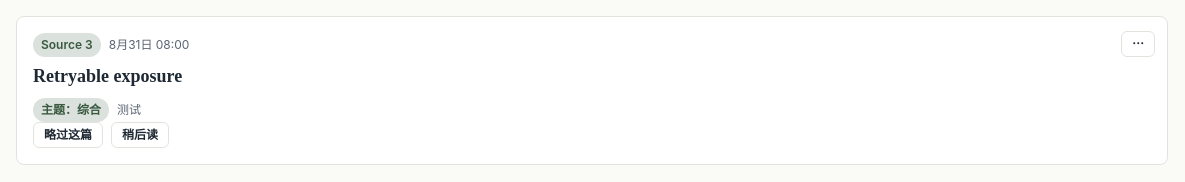
it: explicit exploration feedback targets › does not offer topic hiding for non-content label recently-added
This screenshot has width=1185, height=182.
Click the button named "Retryable exposure 的更多操作".
click(1138, 44)  # box [1121,31,1155,57]
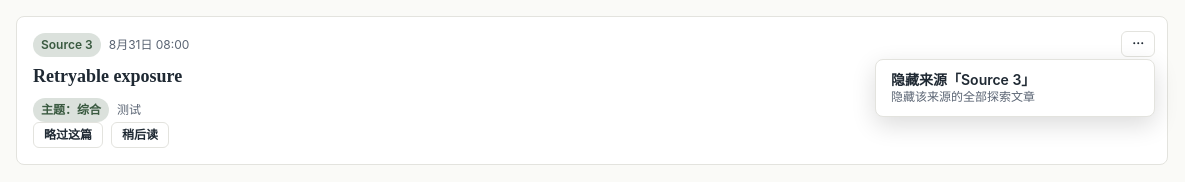
Expected: the menu item "隐藏来源「Source 3」 隐藏该来源的全部探索文章" is shown, [880,64,1150,112]
